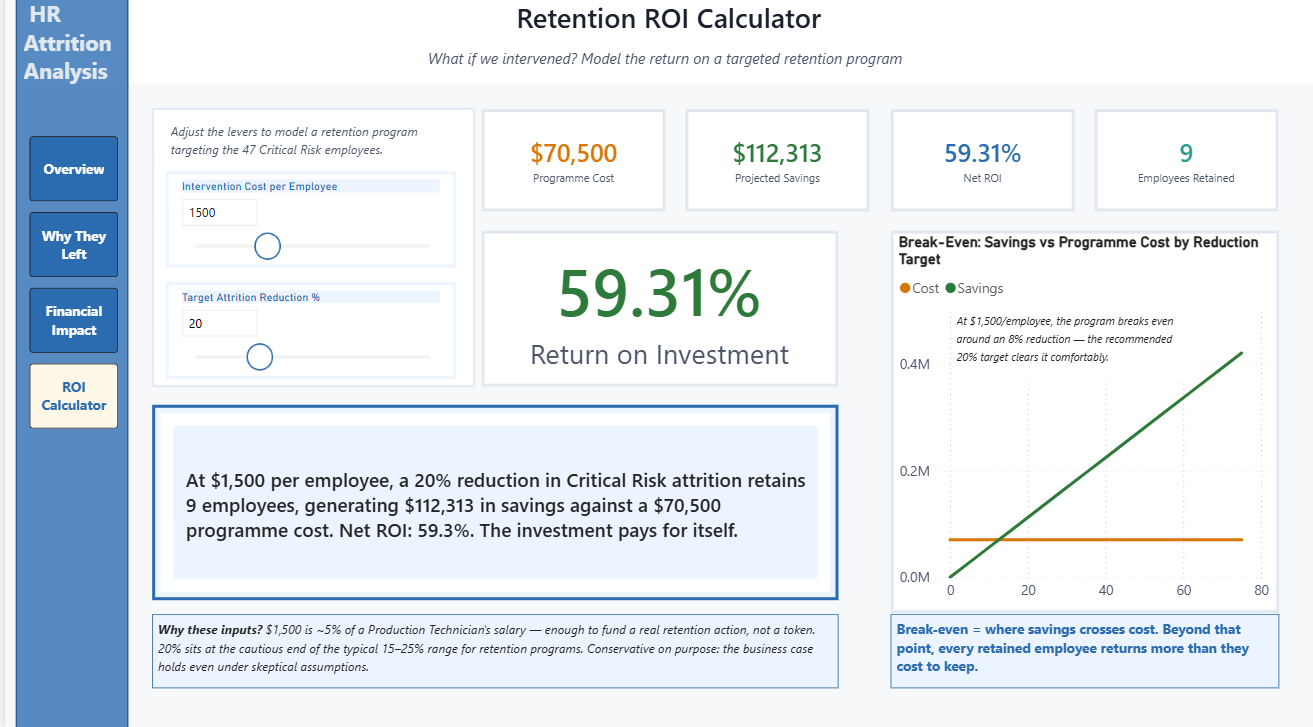

What the dashboard file says about the page in this screenshot:
{"tool":"powerbi","page":{"name":"ROI Calculator","canvas":[1280,720],"ordinal":3},"visuals":[{"type":"shape","box":[144.1,112.3,315.7,273.3],"z":0},{"type":"textbox","box":[10.4,0,1269.6,57.4],"z":1000},{"type":"textbox","box":[10,48.6,1270,40],"z":2000},{"type":"slicer","fields":{"Values":["Intervention_Cost.Intervention_Cost"]},"box":[157,174,284,94],"z":3000},{"type":"slicer","fields":{"Values":["Target_Reduction.Target_Reduction"]},"box":[157,283,284,95],"z":4000},{"type":"shape","box":[10,0,110,720],"z":5000},{"type":"textbox","box":[12.7,0,108.2,97.6],"z":6000},{"type":"pageNavigator","box":[24.2,139.3,87.8,287.7],"z":7000},{"type":"textbox","box":[157,120,283,54],"z":8000},{"type":"cardVisual","fields":{"Data":["_Measures.Programme_Cost"]},"box":[465.7,112.9,180,100],"z":9000},{"type":"cardVisual","fields":{"Data":["_Measures.Projected Savings(card)"]},"box":[665.7,112.9,180,100],"z":10000},{"type":"cardVisual","fields":{"Data":["_Measures.Net_ROI"]},"box":[865.7,112.9,180,100],"z":11000},{"type":"cardVisual","fields":{"Data":["_Measures.Employees_Retained"]},"box":[1065.7,112.9,180,100],"z":12000},{"type":"cardVisual","fields":{"Data":["_Measures.Net_ROI"]},"box":[465.7,232.9,348.6,152.9],"z":13000},{"type":"cardVisual","fields":{"Data":["_Measures.Recommendation_Text"]},"box":[144.3,402.9,671.4,191.4],"z":13001},{"type":"lineChart","title":"Break-Even: Savings vs Programme Cost by Reduction Target","fields":{"Category":["ReductionAxis.Value"],"Y":["_Measures.Cost_Curve","_Measures.Savings_Curve"]},"box":[865.7,232.9,380,374.3],"z":13002},{"type":"textbox","box":[865.7,607.1,380,72.9],"z":13003},{"type":"textbox","box":[144.3,607.1,671.4,72.9],"z":13004},{"type":"textbox","box":[925.7,304.3,240,74.3],"z":13005}]}

Visuals, with their boxes in screenshot pixels (x1, y1, x2, y2), scaled from the page's 1280x720 canvas onto the 1313x727 screenshot:
shape: detection(148, 113, 472, 389)
textbox: detection(11, 0, 1312, 58)
textbox: detection(10, 49, 1312, 89)
slicer - Intervention_Cost.Intervention_Cost: detection(161, 176, 452, 271)
slicer - Target_Reduction.Target_Reduction: detection(161, 286, 452, 382)
shape: detection(10, 0, 123, 726)
textbox: detection(13, 0, 124, 99)
pageNavigator: detection(25, 141, 115, 431)
textbox: detection(161, 121, 451, 176)
cardVisual - _Measures.Programme_Cost: detection(478, 114, 662, 215)
cardVisual - _Measures.Projected Savings(card): detection(683, 114, 868, 215)
cardVisual - _Measures.Net_ROI: detection(888, 114, 1073, 215)
cardVisual - _Measures.Employees_Retained: detection(1093, 114, 1278, 215)
cardVisual - _Measures.Net_ROI: detection(478, 235, 835, 390)
cardVisual - _Measures.Recommendation_Text: detection(148, 407, 837, 600)
"Break-Even: Savings vs Programme Cost by Reduction Target" lineChart: detection(888, 235, 1278, 613)
textbox: detection(888, 613, 1278, 687)
textbox: detection(148, 613, 837, 687)
textbox: detection(950, 307, 1196, 382)
